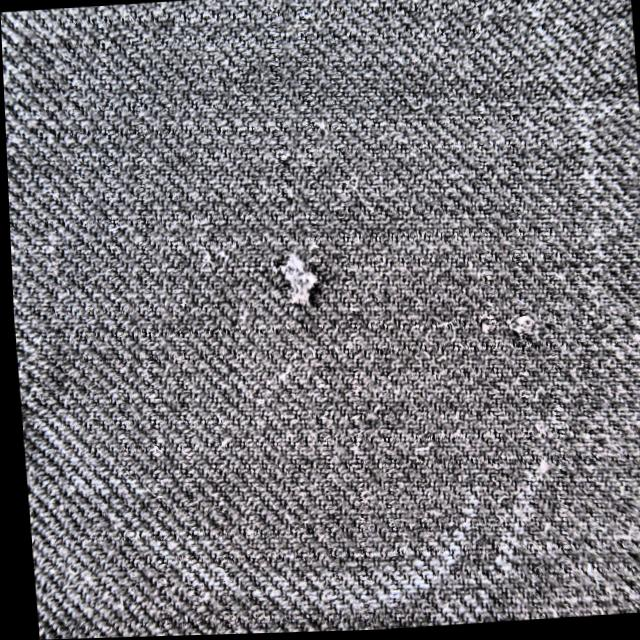Hole: (237, 189, 355, 368)
